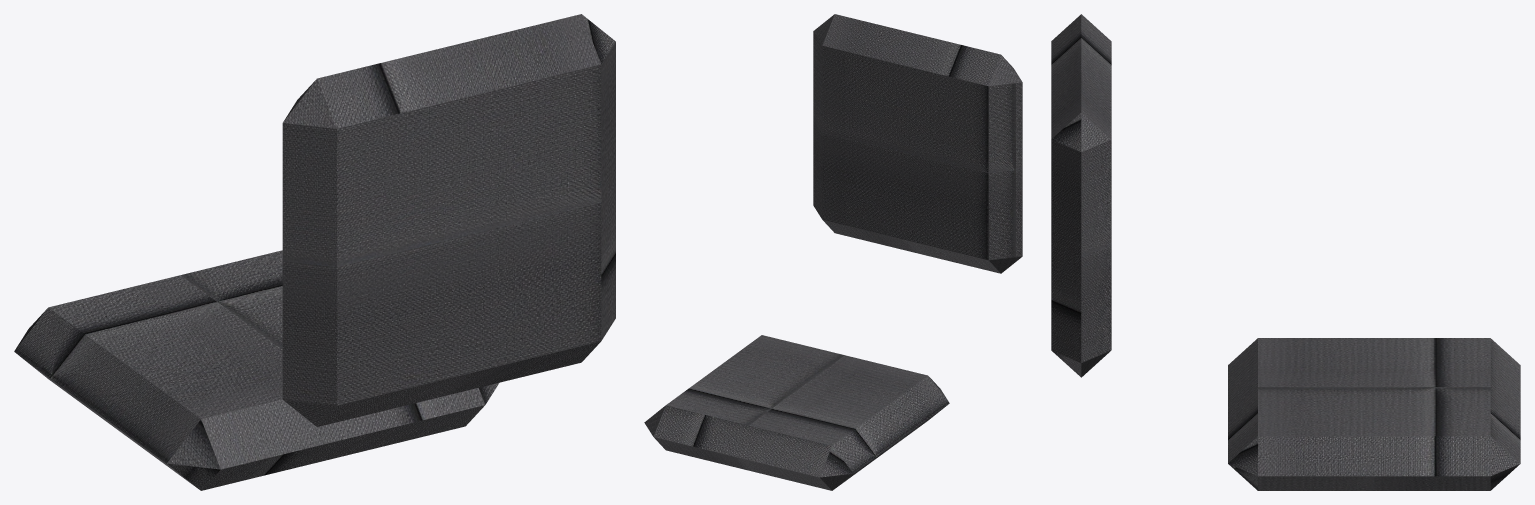
The model's file is seat.glb.
The picture shows the model from 3 angles, left to right: view 1: azimuth 30°, elevation 25°; view 2: azimuth 150°, elevation 25°; view 3: azimuth 270°, elevation 25°; orthographic projection. The views are drawn at different scales.
Parts seen in each view (by area): view 1: Cube; view 2: Cube; view 3: Cube.
Boxes of the visible parts, box(x1,y1,x2,y2) form: Cube: box(14, 14, 615, 490); Cube: box(644, 14, 1022, 490); Cube: box(1051, 14, 1520, 490).
Bounding box in the file's own units: 0.17 × 0.2425 × 0.2725.
Materials: 1 (1 with a texture image).
